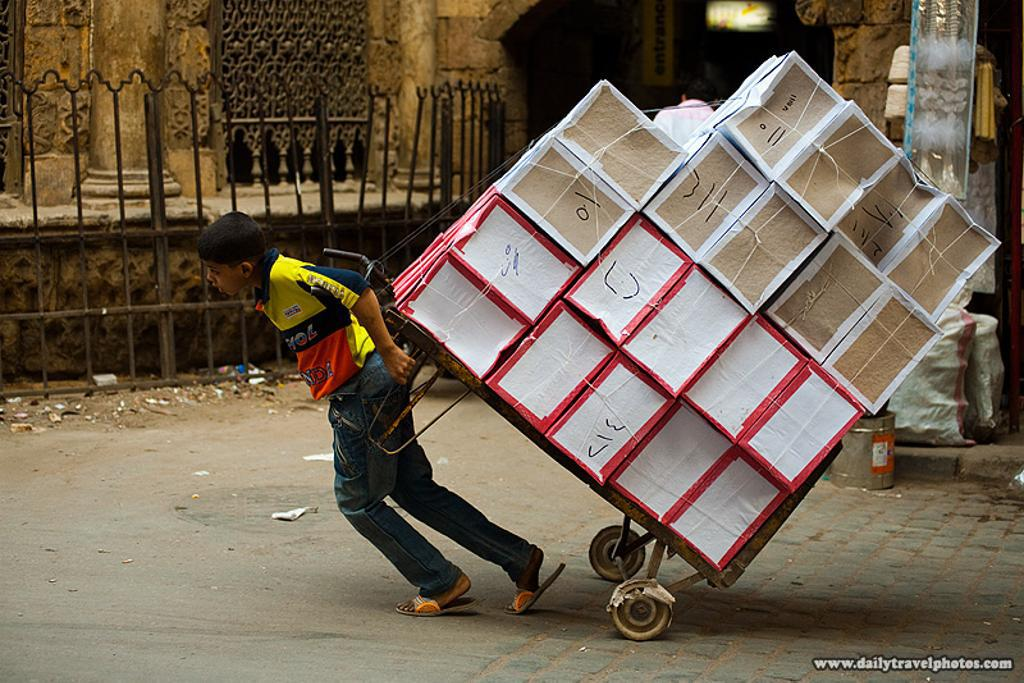face: (203, 258, 239, 296)
